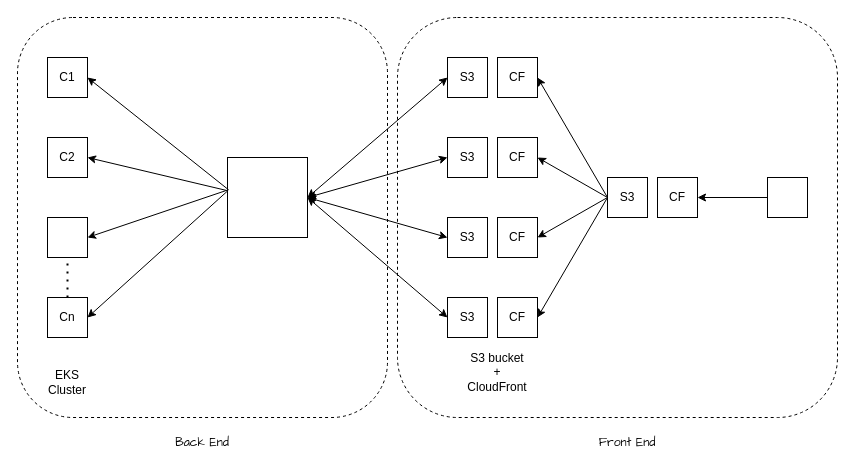
This 855x475 diagram has some shape labels left out. Here are the shapes that lost their labels. From the top down, the centre of each, then its label:
the point at 267,197: EKS (Load Balancer)
the point at 787,197: RT-53
the point at 67,237: C3
